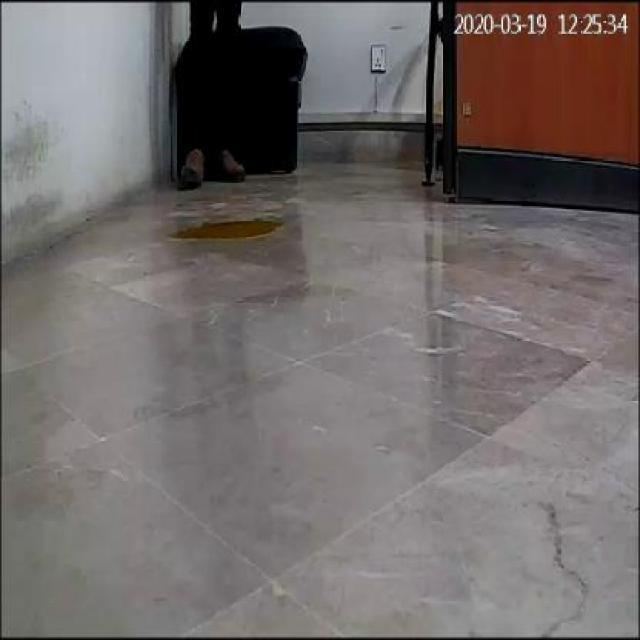spill: (169, 212, 291, 250)
